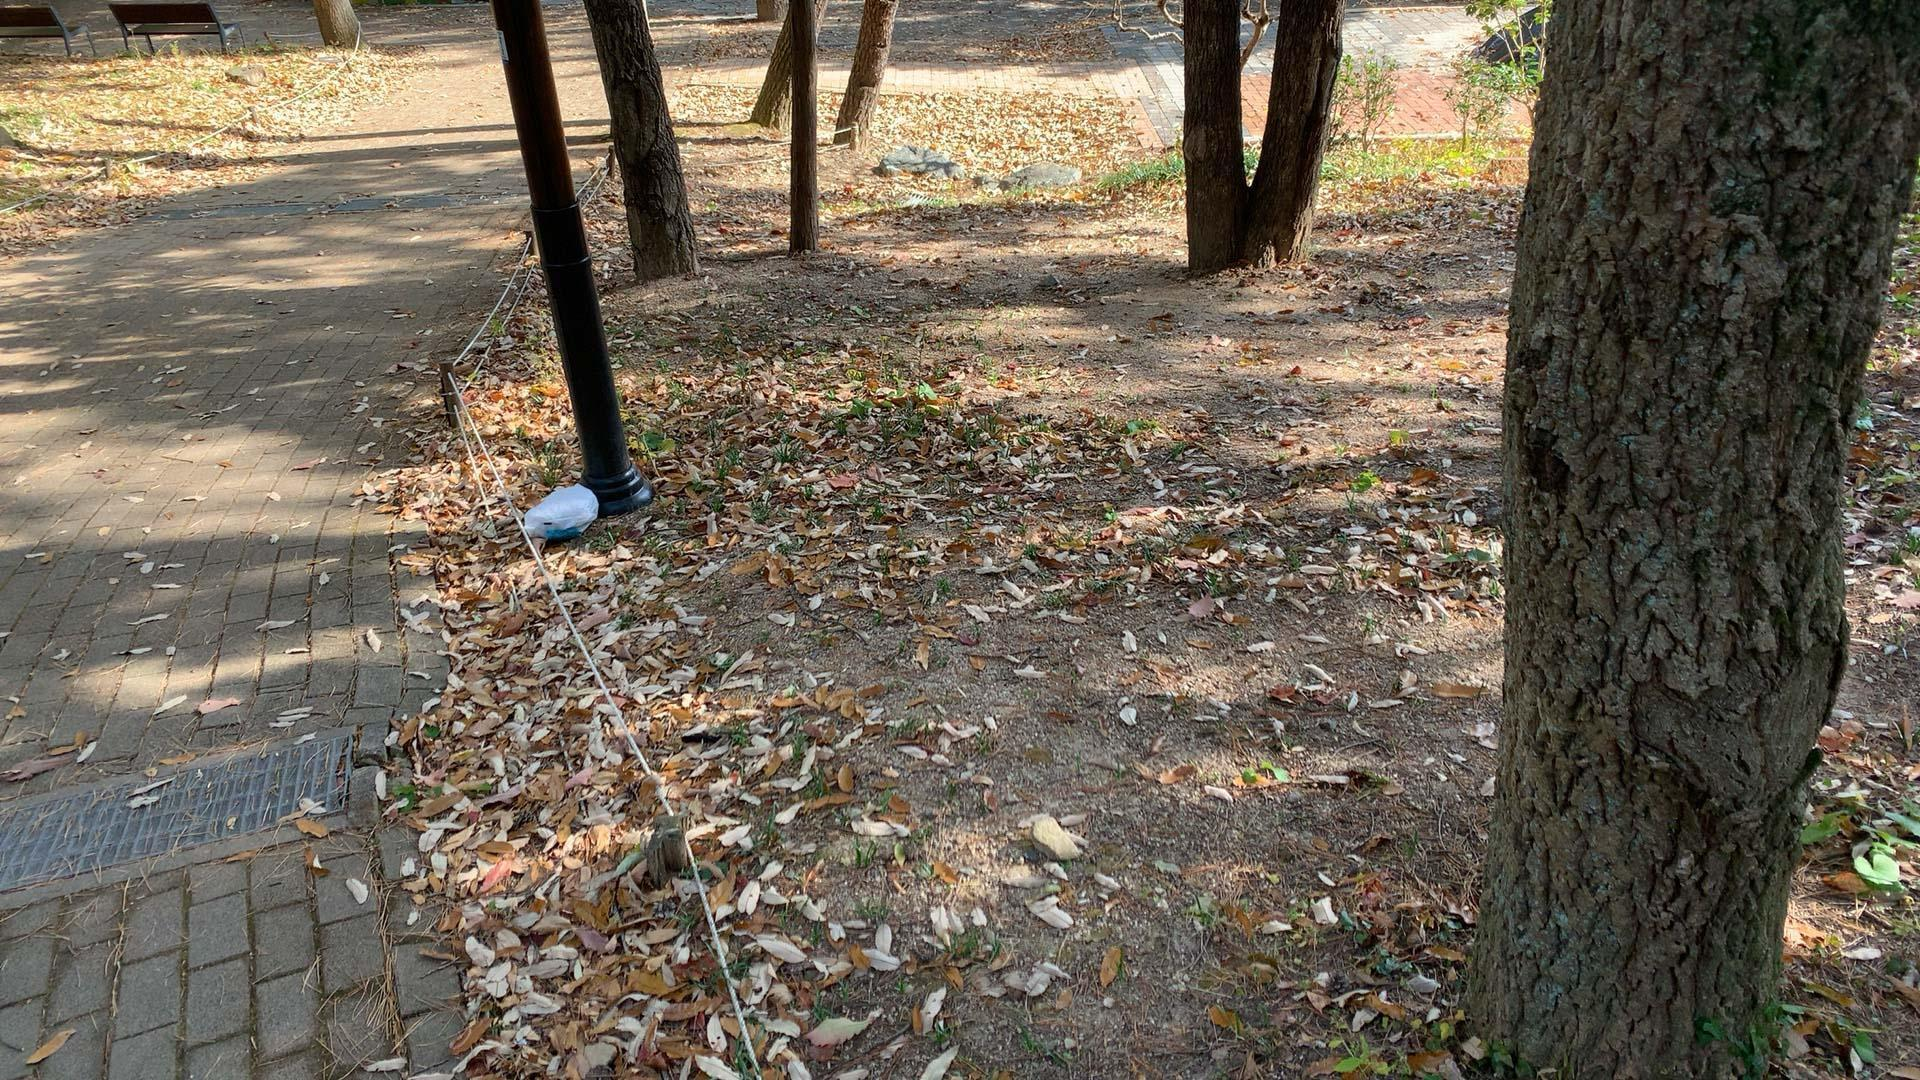white_bag: (518, 480, 600, 545)
